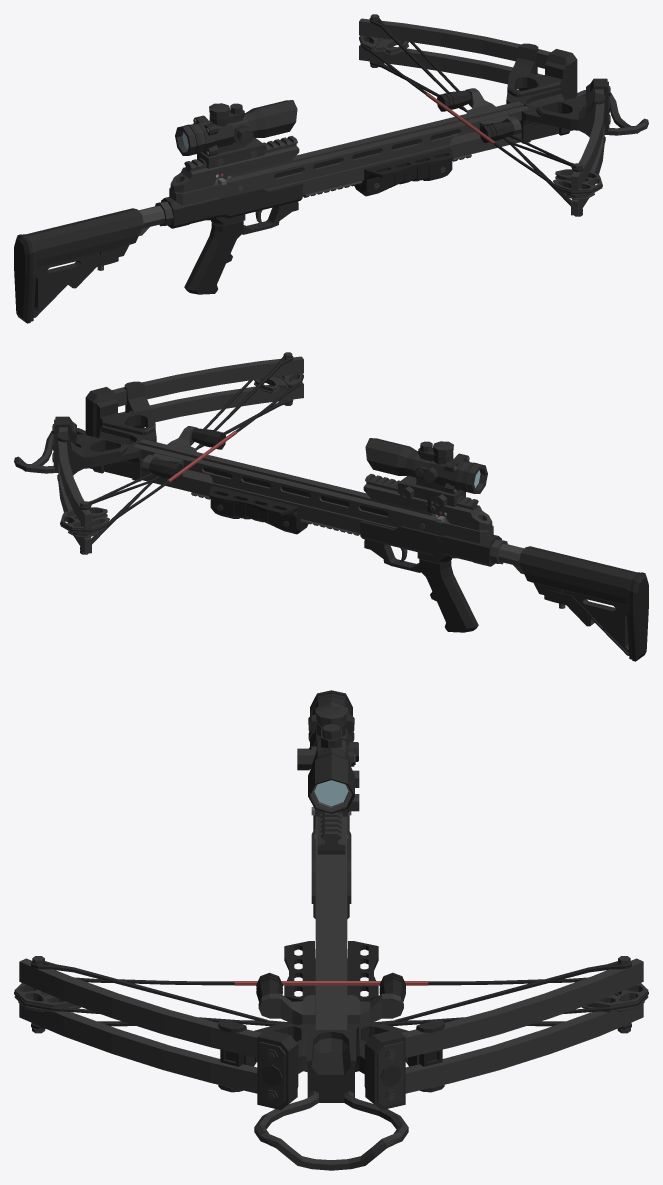
The model's file is crossbow.glb.
3 views of the same model, one above another, from view 1: azimuth 30°, elevation 25°; view 2: azimuth 150°, elevation 25°; view 3: azimuth 270°, elevation 25° (orthographic). The views are drawn at different scales.
Visible parts, largest first — view 1: Cube.005; view 2: Cube.005; view 3: Cube.005.
Part boxes in pixels (bbox=[...]): Cube.005: bbox=[14, 14, 648, 323]; Cube.005: bbox=[14, 352, 648, 661]; Cube.005: bbox=[14, 690, 648, 1170].
Size of the model in its own units: 867 by 247 by 542.
